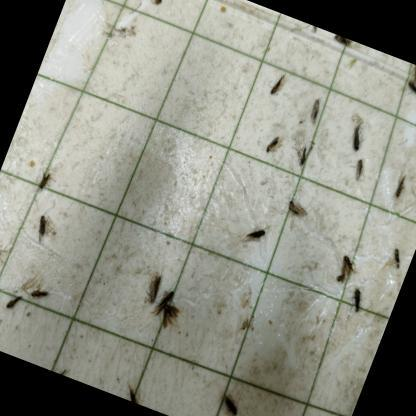prays_oleae: (152, 278, 194, 332), (274, 186, 312, 232), (382, 235, 413, 282), (206, 384, 251, 416), (137, 265, 170, 306), (326, 249, 362, 285), (116, 376, 156, 408), (298, 94, 324, 142), (338, 118, 370, 156), (341, 283, 370, 321), (285, 139, 314, 177), (384, 174, 412, 212), (31, 212, 61, 245), (241, 221, 271, 252), (262, 134, 288, 162), (33, 165, 59, 193), (267, 70, 292, 98), (328, 34, 356, 57), (349, 156, 372, 183), (0, 231, 12, 267), (29, 282, 50, 300), (401, 76, 416, 99), (298, 21, 320, 36), (50, 363, 70, 377), (402, 61, 416, 80)
